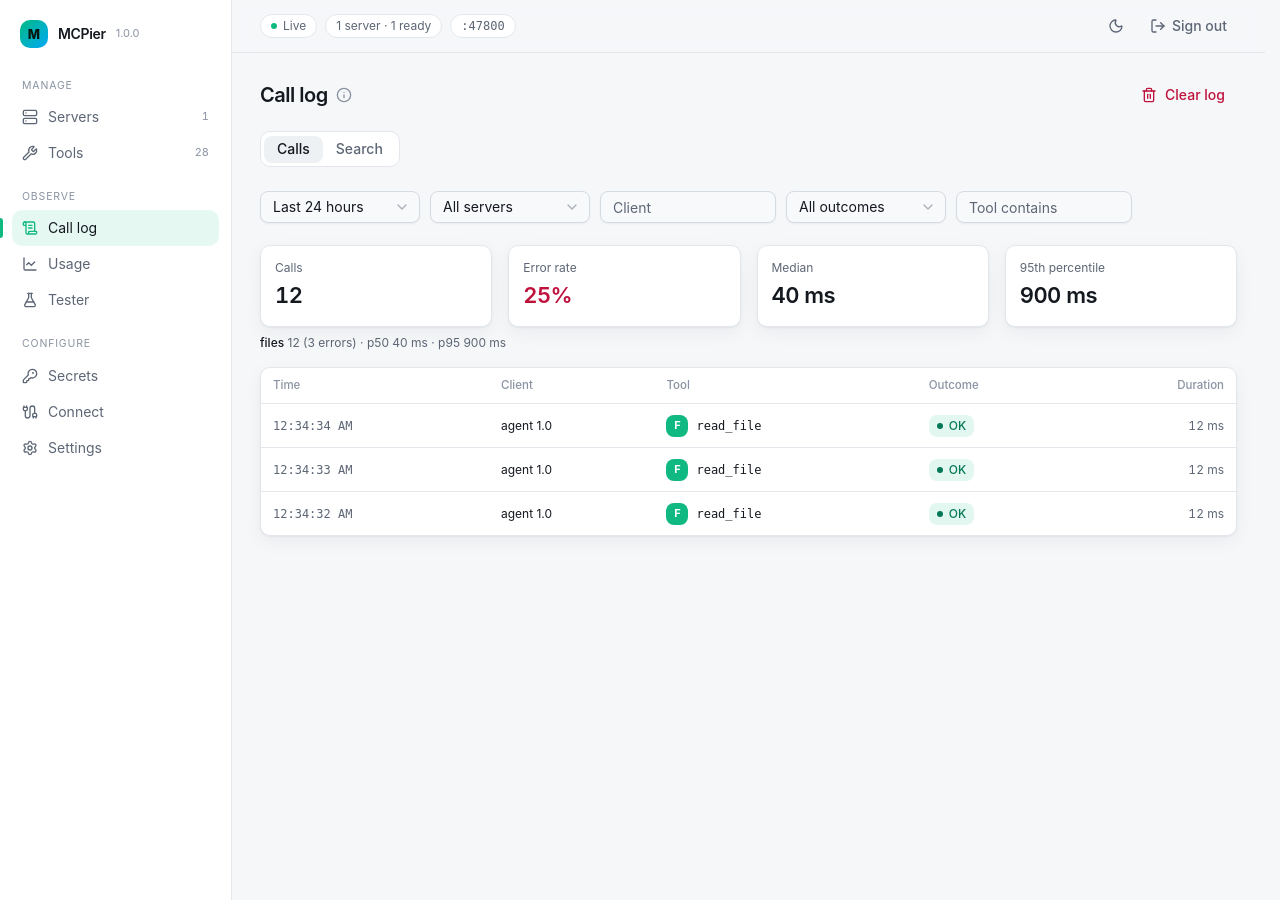
Call log: Clear log › asks first, naming what is deleted; then clears with confirm=true
expect the table named "Calls" is shown: met, box [261,368,1236,535]
Step 1. Click the button "Clear log" → (1183, 95), box [1129,77,1237,113]
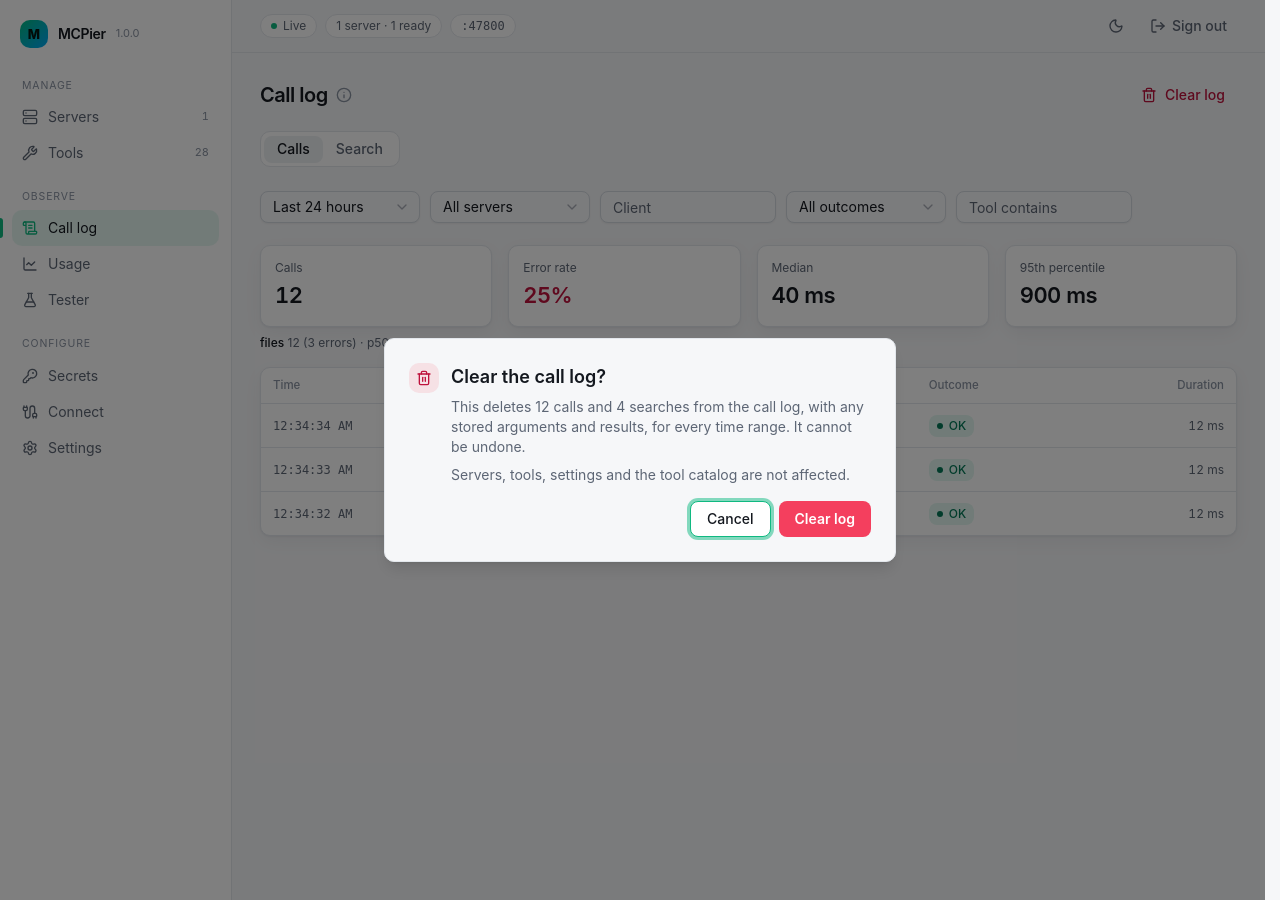
expect the text "12 calls and 4 searches" is shown: met, box [535,398,690,415]
Step 2. Click the button "Cancel" → (730, 519), box [690,501,770,537]
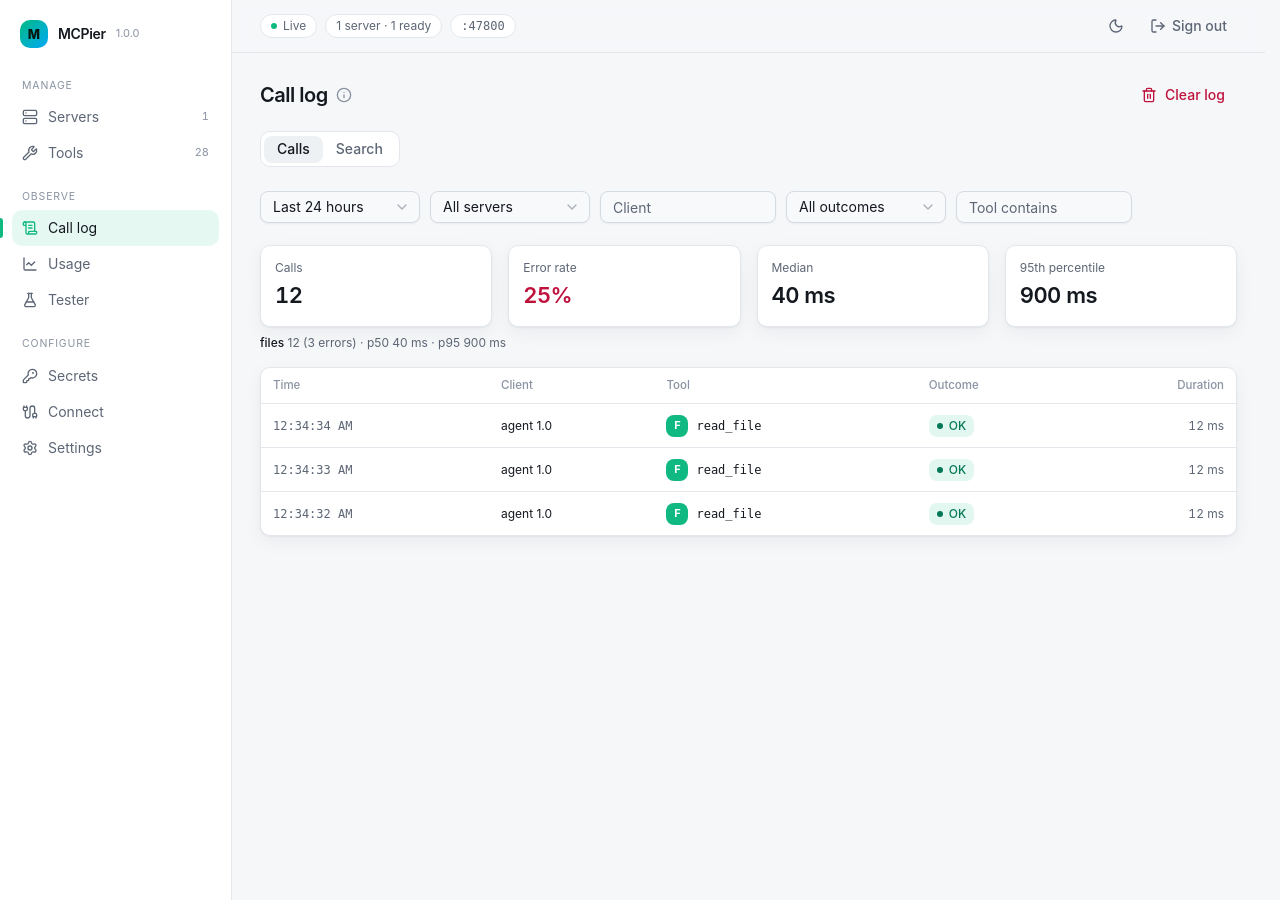
Step 3. Click the button "Clear log" → (1183, 95), box [1129,77,1237,113]
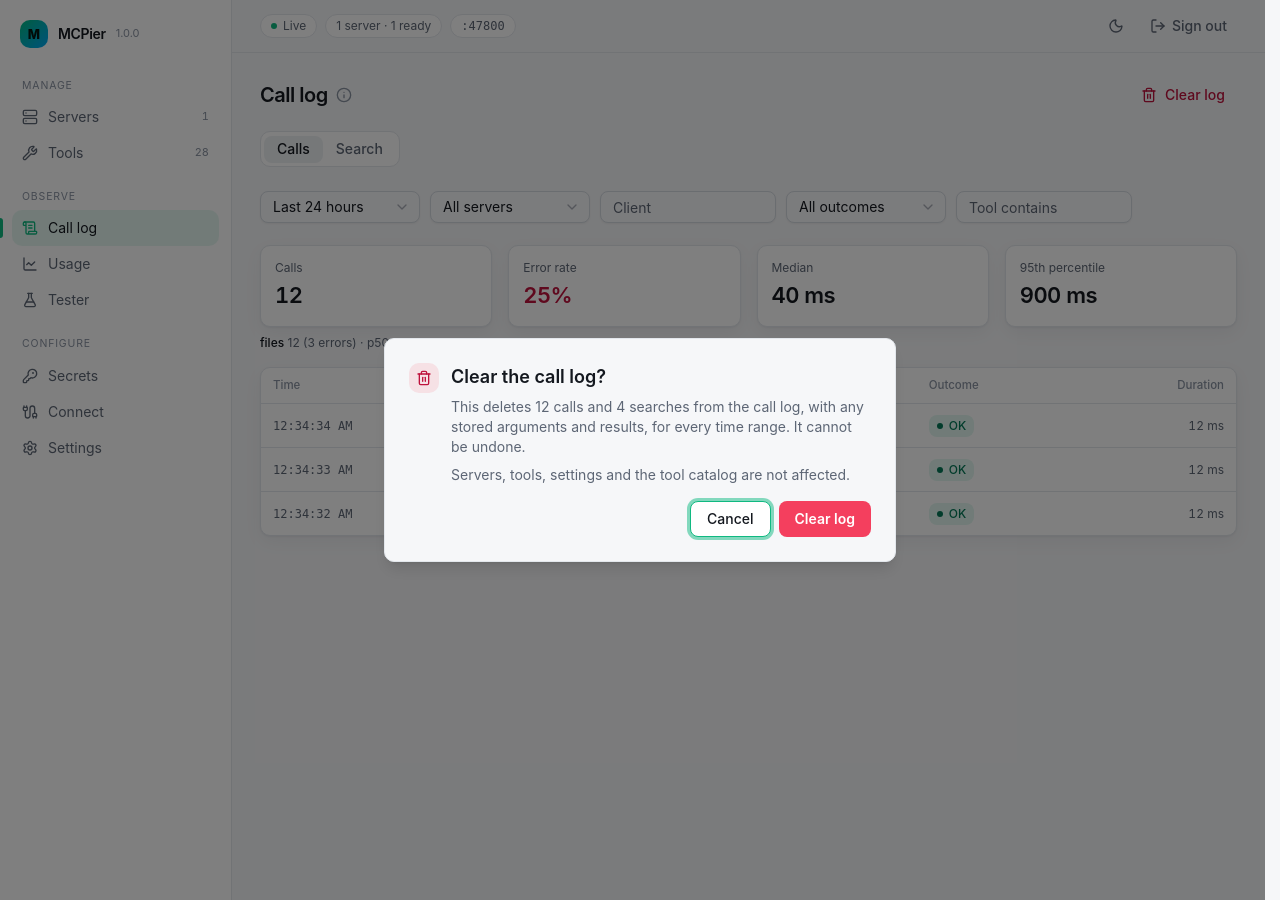
Step 4. Click the button "Clear log" → (825, 519), box [778,501,871,537]
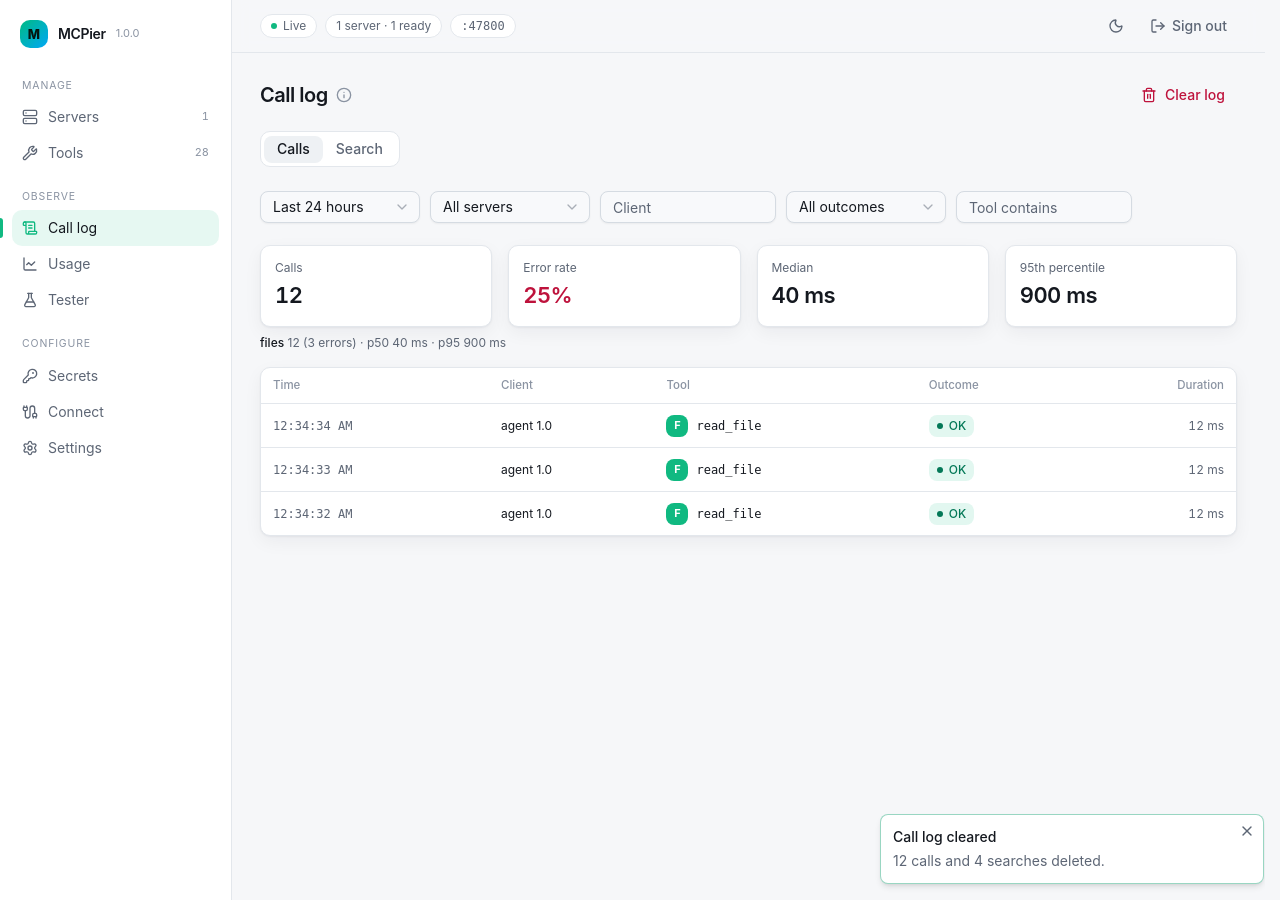
expect the text "Call log cleared" is shown: met, box [893,828,996,845]
